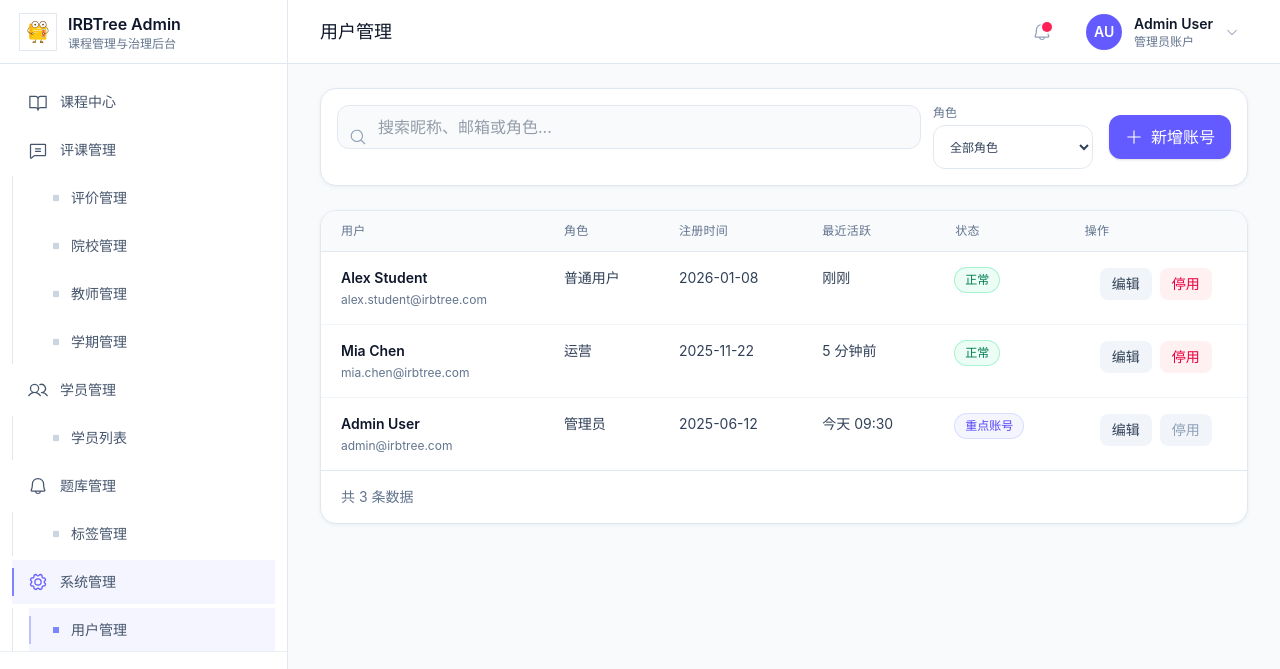
Scenario: Admin page behaviors › prevents the current admin from changing their own role or disabling themselves
The image size is (1280, 669).
Check: the button "停用" in the row of "admin@irbtree.com" is disabled, box [1160,414,1212,446]
Click the button "编辑" in the row of "admin@irbtree.com" at {"x": 1126, "y": 430}, box [1100,414,1152,446]
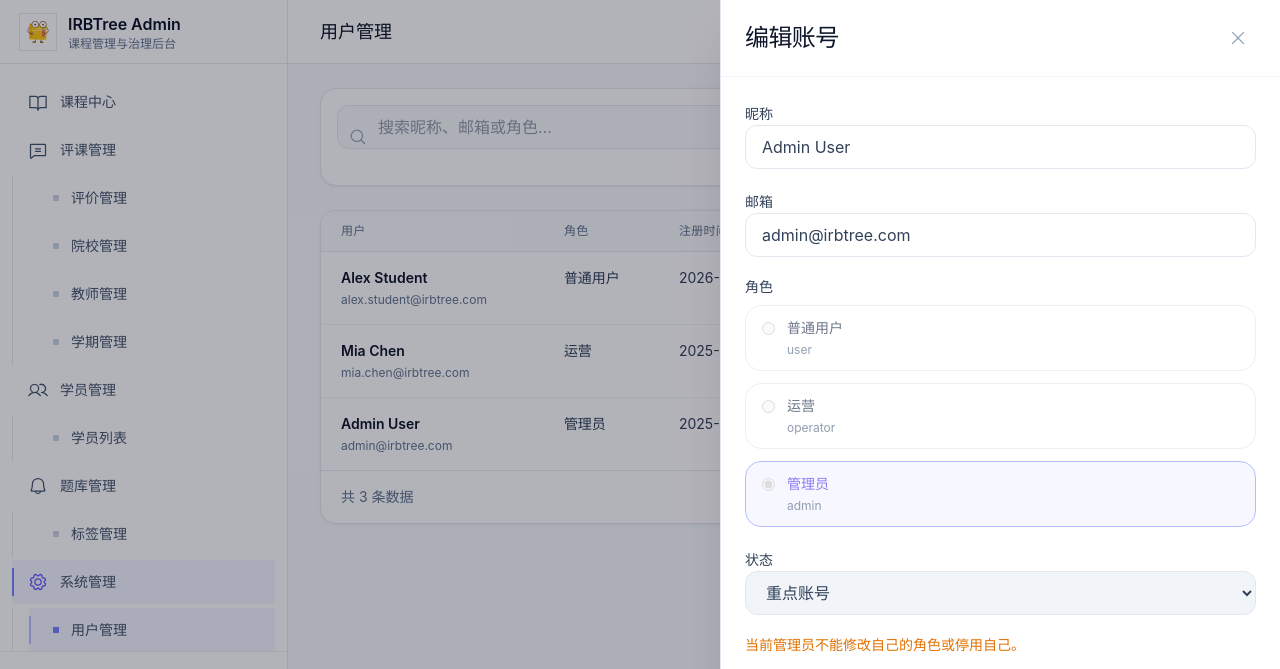
Check: the text "当前管理员不能修改自己的角色或停用自己。" is shown, box [745,636,1025,653]
Check: the radio button labelled "普通用户" is disabled, box [762,322,775,335]
Check: the radio button labelled "运营" is disabled, box [762,400,775,413]
